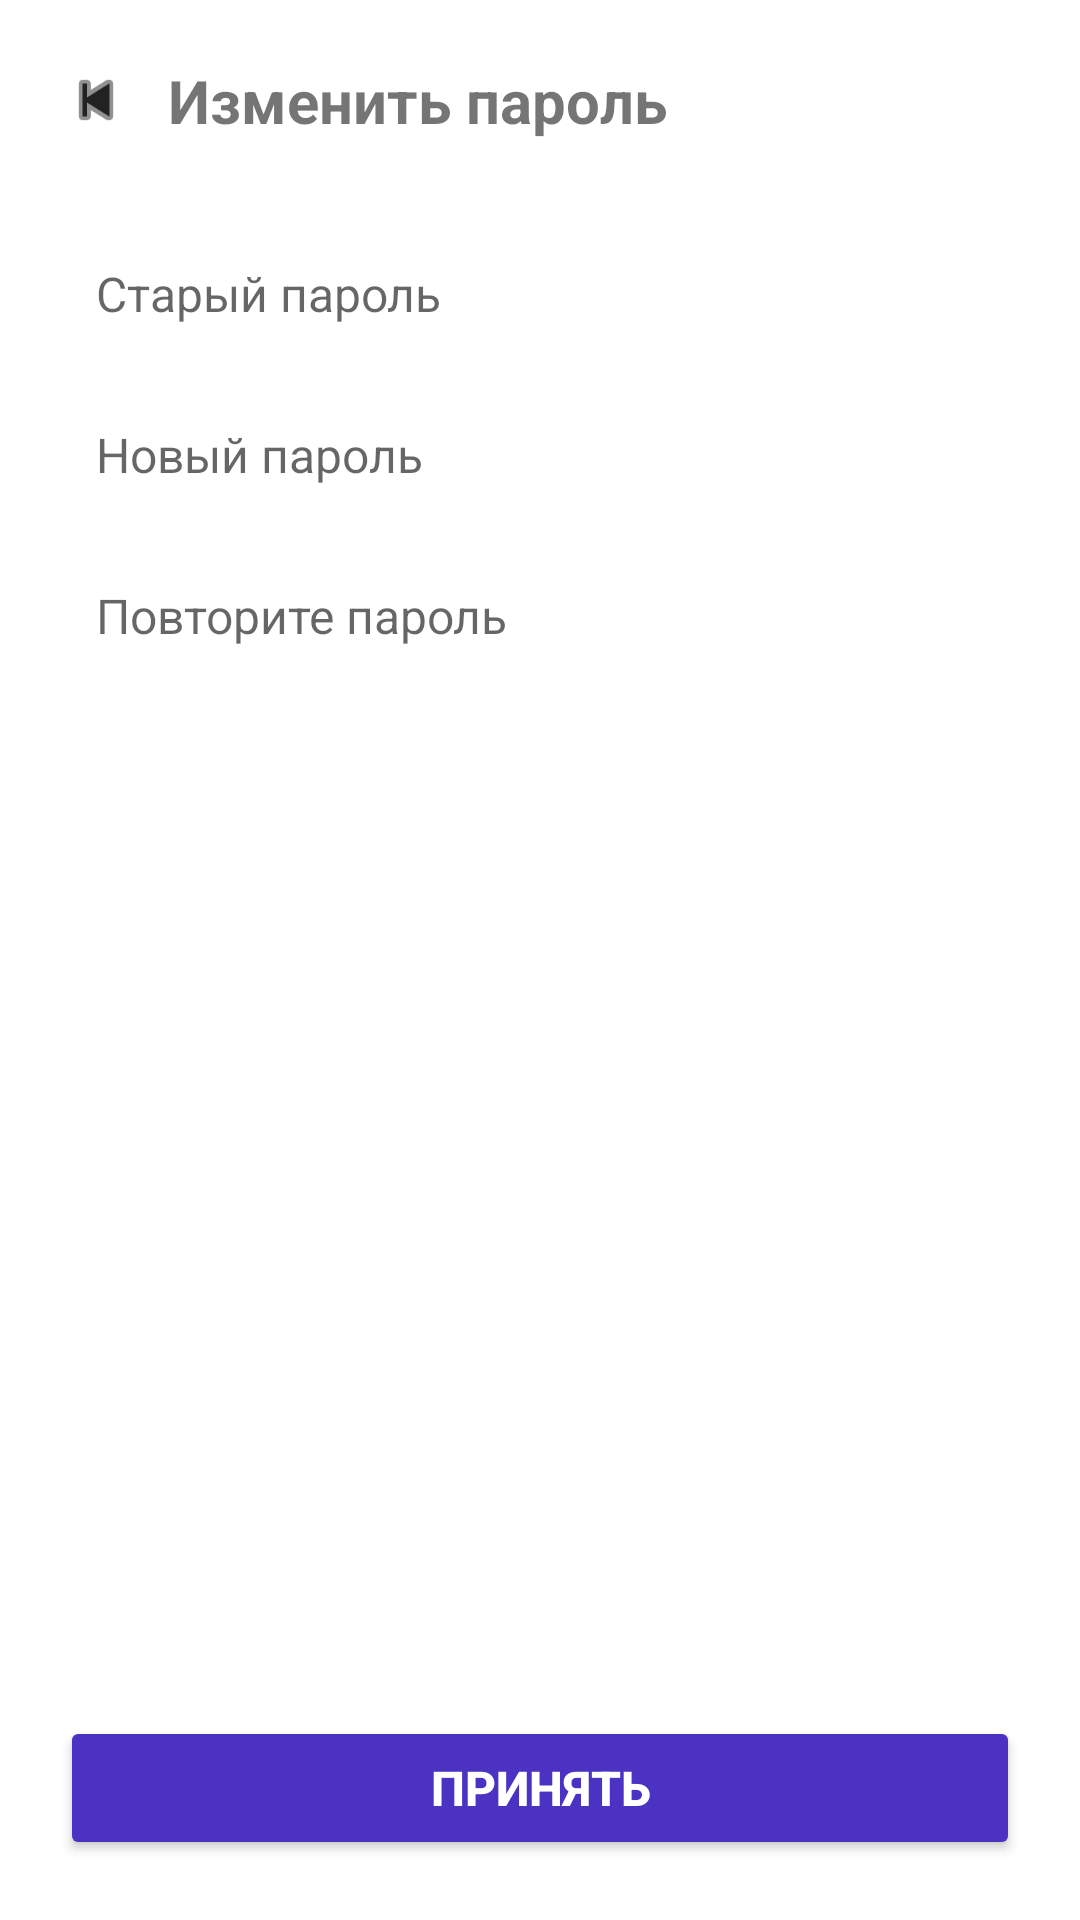

Named icons in this screenshot (1080x1920) and their bounding boxes, (x1, y1, x2, y2):
previous: (79, 80, 113, 120)
